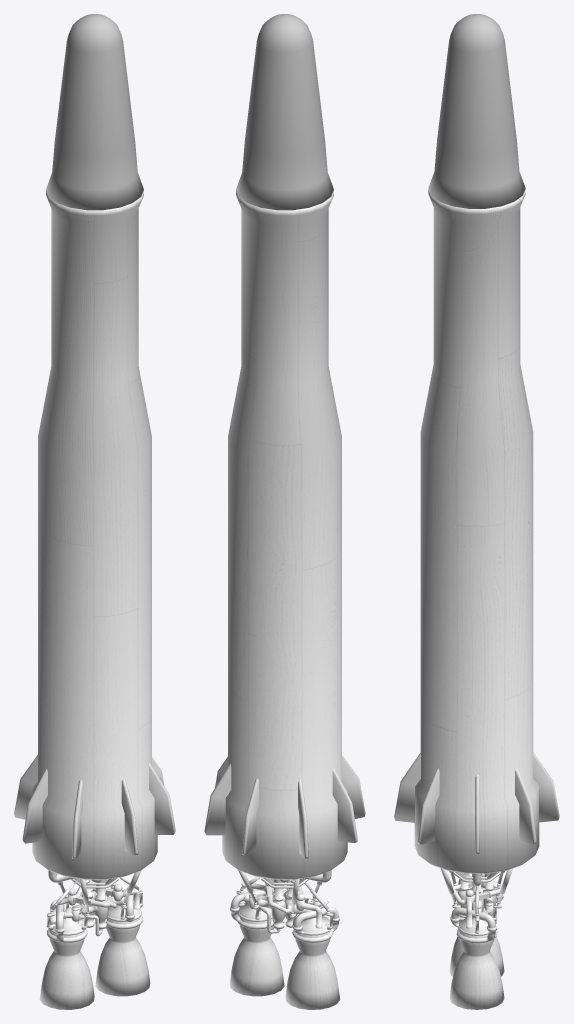
Rendered from ICBM.dae.
3 views of the same model, side by side, from view 1: azimuth 30°, elevation 25°; view 2: azimuth 150°, elevation 25°; view 3: azimuth 270°, elevation 25° (orthographic).
Visible parts, largest first — view 1: Rocket, RocketHood, RocketEngine; view 2: Rocket, RocketHood, RocketEngine; view 3: Rocket, RocketHood, RocketEngine.
Boxes of the visible parts, x1=… form: Rocket: x1=14, y1=190, x2=175, y2=879; RocketHood: x1=46, y1=14, x2=143, y2=210; RocketEngine: x1=39, y1=870, x2=150, y2=1009; Rocket: x1=204, y1=190, x2=365, y2=879; RocketHood: x1=236, y1=14, x2=333, y2=210; RocketEngine: x1=229, y1=870, x2=340, y2=1009; Rocket: x1=394, y1=189, x2=559, y2=873; RocketHood: x1=428, y1=14, x2=525, y2=208; RocketEngine: x1=441, y1=868, x2=512, y2=1009.
Bounding box in the file's own units: 2.64 × 2.64 × 17.02.
